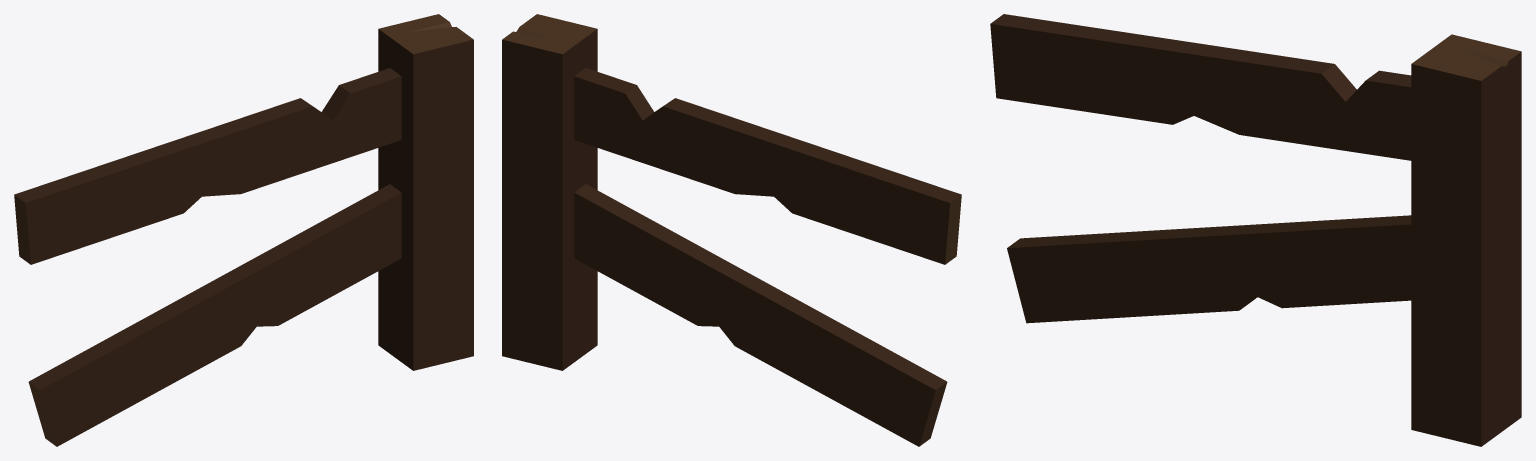
The model's file is Cave_Lair_Wooden_Timber_Fence_Broken_Small_01.fbx.
The picture shows the model from 3 angles, left to right: view 1: azimuth 30°, elevation 25°; view 2: azimuth 150°, elevation 25°; view 3: azimuth 330°, elevation 25°; orthographic projection. The views are drawn at different scales.
Visible parts, largest first — view 1: Cave_Lair_Wooden_Timber_Fence_Broken_Small_01; view 2: Cave_Lair_Wooden_Timber_Fence_Broken_Small_01; view 3: Cave_Lair_Wooden_Timber_Fence_Broken_Small_01.
Boxes of the visible parts, box(x1,y1,x2,y2) form: Cave_Lair_Wooden_Timber_Fence_Broken_Small_01: box(14, 14, 473, 446); Cave_Lair_Wooden_Timber_Fence_Broken_Small_01: box(502, 14, 961, 446); Cave_Lair_Wooden_Timber_Fence_Broken_Small_01: box(990, 14, 1521, 446).
Size of the model in its own units: 1.62 by 1.13 by 0.225.
